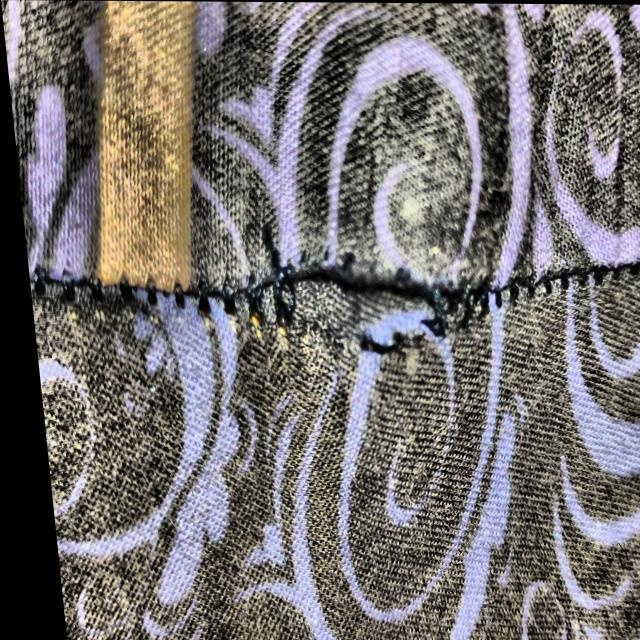seam: (223, 181, 539, 433)
